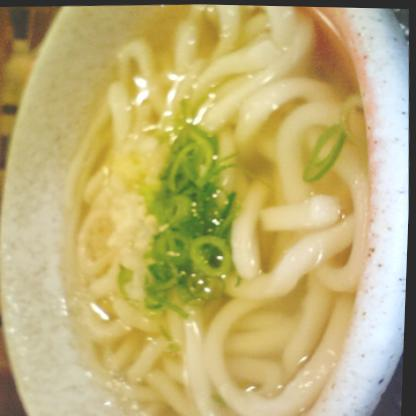Udon: (36, 0, 379, 415)
